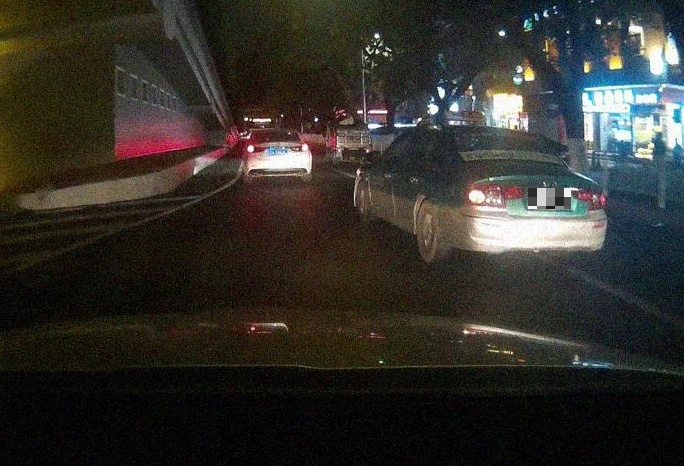L_light: (464, 183, 524, 209), (247, 145, 267, 153)
R_light: (571, 187, 607, 209), (291, 143, 308, 152)
T_light: (513, 157, 533, 162), (272, 130, 279, 132)
night-left: (445, 124, 608, 267)
night-no: (246, 128, 312, 184)
plate_1: (528, 188, 571, 209)
